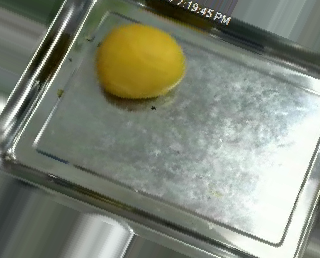Mango: (95, 24, 193, 103)
